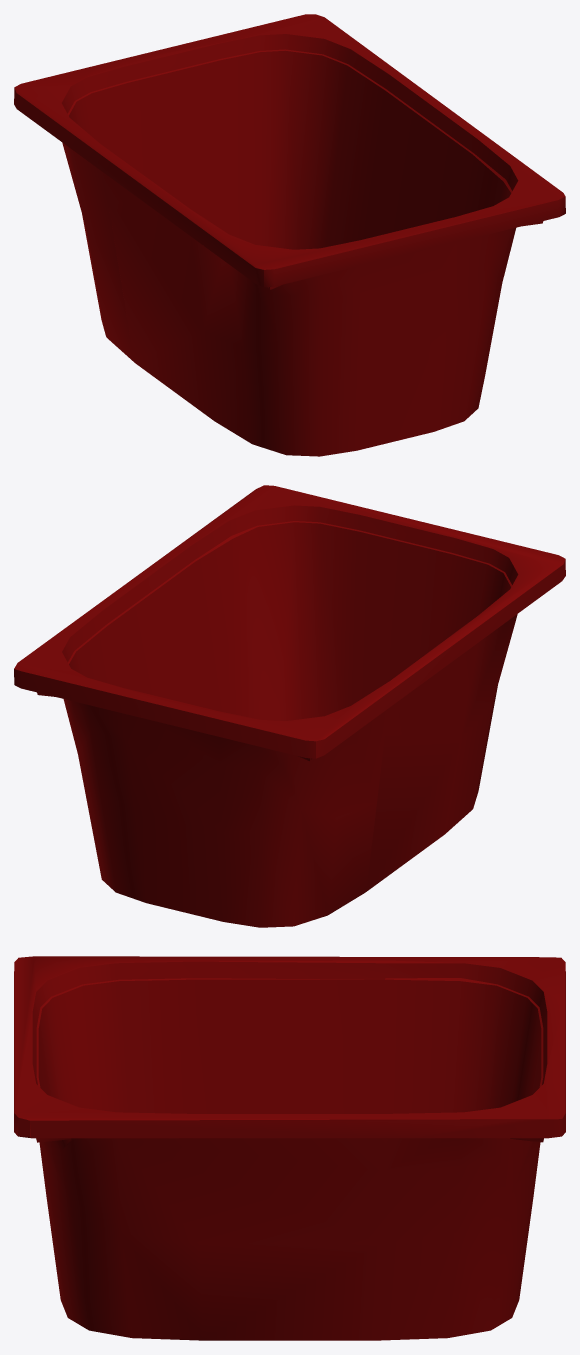
Rendered from plastic box.FBX.
3 renders of one model, top to bottom at view 1: azimuth 30°, elevation 25°; view 2: azimuth 150°, elevation 25°; view 3: azimuth 270°, elevation 25°, orthographic. The views are drawn at different scales.
Parts seen in each view (by area): view 1: plastic box; view 2: plastic box; view 3: plastic box.
Part boxes in pixels (left/top/right/bottom): plastic box: left=14, top=14, right=565, bottom=456; plastic box: left=14, top=485, right=565, bottom=927; plastic box: left=14, top=956, right=565, bottom=1340.
Size of the model in its own units: 29.26 by 20.22 by 41.77.
